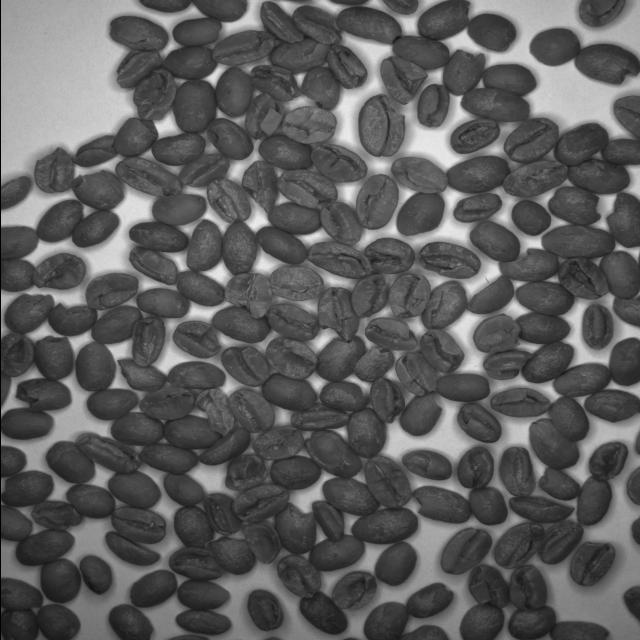bad: (357, 92, 409, 158), (300, 428, 363, 480), (111, 156, 186, 198), (574, 42, 640, 86), (75, 432, 144, 474), (502, 116, 562, 164), (304, 240, 374, 281), (500, 156, 568, 198), (352, 172, 401, 230), (312, 333, 368, 383), (128, 68, 180, 121), (278, 167, 340, 211), (416, 241, 484, 281), (267, 36, 335, 76), (210, 28, 278, 68), (491, 520, 545, 570), (378, 56, 431, 106), (306, 143, 369, 185), (106, 12, 172, 52), (314, 286, 360, 343), (364, 455, 412, 509), (136, 384, 200, 424), (264, 337, 322, 381), (232, 482, 292, 524), (29, 248, 89, 290), (392, 190, 444, 238), (222, 269, 270, 321), (203, 115, 256, 162), (410, 484, 472, 524), (210, 64, 255, 119), (566, 540, 617, 588), (415, 0, 474, 41), (440, 48, 488, 98), (420, 279, 468, 329), (278, 106, 338, 146), (556, 257, 610, 301), (274, 501, 318, 555), (111, 46, 165, 90), (0, 290, 54, 334), (70, 170, 126, 212), (226, 388, 277, 434), (80, 272, 140, 311), (496, 247, 560, 283), (417, 326, 465, 374), (32, 148, 80, 196), (240, 90, 286, 140), (196, 427, 253, 467), (109, 506, 169, 544), (397, 390, 444, 438), (29, 334, 76, 382), (126, 246, 182, 286), (102, 530, 164, 566), (220, 346, 273, 388), (290, 5, 344, 46), (487, 386, 552, 420), (536, 520, 584, 566), (386, 271, 432, 319), (192, 387, 236, 437), (110, 114, 160, 158), (344, 408, 386, 460), (390, 156, 449, 193), (318, 200, 364, 247), (455, 399, 503, 444), (240, 159, 280, 213), (472, 312, 523, 354), (247, 64, 303, 102), (264, 303, 320, 341), (604, 190, 640, 249), (506, 564, 550, 612), (466, 562, 510, 610), (256, 0, 304, 44), (164, 547, 226, 581), (12, 378, 74, 412), (403, 582, 458, 620), (0, 469, 55, 507), (464, 275, 516, 315), (170, 320, 222, 360), (546, 188, 602, 225), (208, 176, 252, 223), (448, 117, 502, 155), (130, 314, 168, 368), (362, 237, 417, 274), (582, 388, 640, 423), (278, 556, 324, 600), (393, 351, 437, 397), (324, 44, 368, 90), (349, 272, 391, 320), (300, 64, 342, 112), (328, 570, 378, 610), (507, 495, 575, 524), (268, 268, 326, 302), (500, 444, 536, 498), (244, 587, 286, 633), (208, 536, 256, 576), (366, 376, 406, 424), (288, 402, 352, 432), (505, 604, 558, 640), (399, 448, 455, 482), (363, 317, 419, 351), (46, 301, 98, 337), (242, 516, 282, 562), (252, 426, 306, 460), (220, 452, 268, 490), (116, 358, 168, 393), (71, 133, 121, 169), (349, 346, 396, 384), (1, 329, 36, 380), (479, 349, 533, 382), (108, 603, 156, 640), (456, 446, 496, 490), (203, 491, 242, 536), (317, 380, 370, 413), (310, 498, 348, 544), (30, 498, 84, 530), (588, 440, 629, 482), (452, 192, 504, 225), (415, 84, 452, 130), (574, 0, 630, 30), (580, 302, 614, 350), (537, 466, 582, 502), (546, 620, 612, 640), (612, 296, 640, 328)
good: (333, 5, 404, 46), (538, 223, 616, 260), (349, 505, 421, 545), (528, 416, 580, 471), (444, 153, 511, 195), (438, 526, 494, 576), (458, 87, 532, 124), (170, 78, 218, 134), (552, 120, 610, 166), (518, 340, 576, 386), (10, 526, 76, 566), (45, 438, 97, 486), (210, 304, 272, 344), (219, 217, 261, 276), (564, 158, 632, 194), (34, 198, 86, 245), (306, 533, 366, 573), (260, 374, 320, 414), (464, 12, 520, 54), (322, 476, 378, 518), (254, 224, 310, 266), (69, 209, 125, 251), (513, 280, 578, 316), (470, 220, 523, 264), (550, 362, 614, 398), (298, 592, 350, 636), (149, 130, 209, 168), (108, 410, 168, 448), (527, 26, 581, 68), (107, 468, 161, 510), (160, 45, 224, 80), (372, 540, 418, 588), (82, 384, 140, 422), (160, 415, 221, 451), (182, 220, 224, 272), (76, 340, 118, 392), (38, 556, 82, 605), (256, 134, 314, 171), (124, 222, 190, 254), (164, 358, 228, 391), (598, 250, 640, 300), (150, 192, 210, 227), (89, 305, 144, 343), (574, 475, 614, 527), (0, 405, 56, 442), (170, 504, 217, 548), (63, 482, 117, 520), (391, 36, 451, 70), (266, 202, 326, 236), (127, 568, 178, 608), (480, 62, 538, 97), (548, 394, 590, 442), (175, 270, 228, 308), (176, 153, 231, 189), (268, 456, 324, 491), (514, 313, 574, 345), (134, 287, 194, 319), (136, 445, 200, 475), (362, 601, 411, 640), (34, 602, 84, 640), (432, 370, 491, 402), (456, 603, 506, 640), (466, 485, 509, 528), (169, 608, 234, 636), (168, 16, 224, 48), (160, 469, 208, 506), (606, 335, 640, 387), (0, 576, 50, 610), (509, 200, 553, 237), (174, 582, 232, 610), (77, 554, 114, 596), (189, 0, 250, 24), (1, 256, 38, 294), (0, 224, 39, 260), (0, 609, 44, 640), (1, 504, 34, 544), (613, 93, 640, 140), (599, 138, 640, 168), (0, 175, 32, 213), (0, 444, 30, 480), (135, 1, 193, 14)
